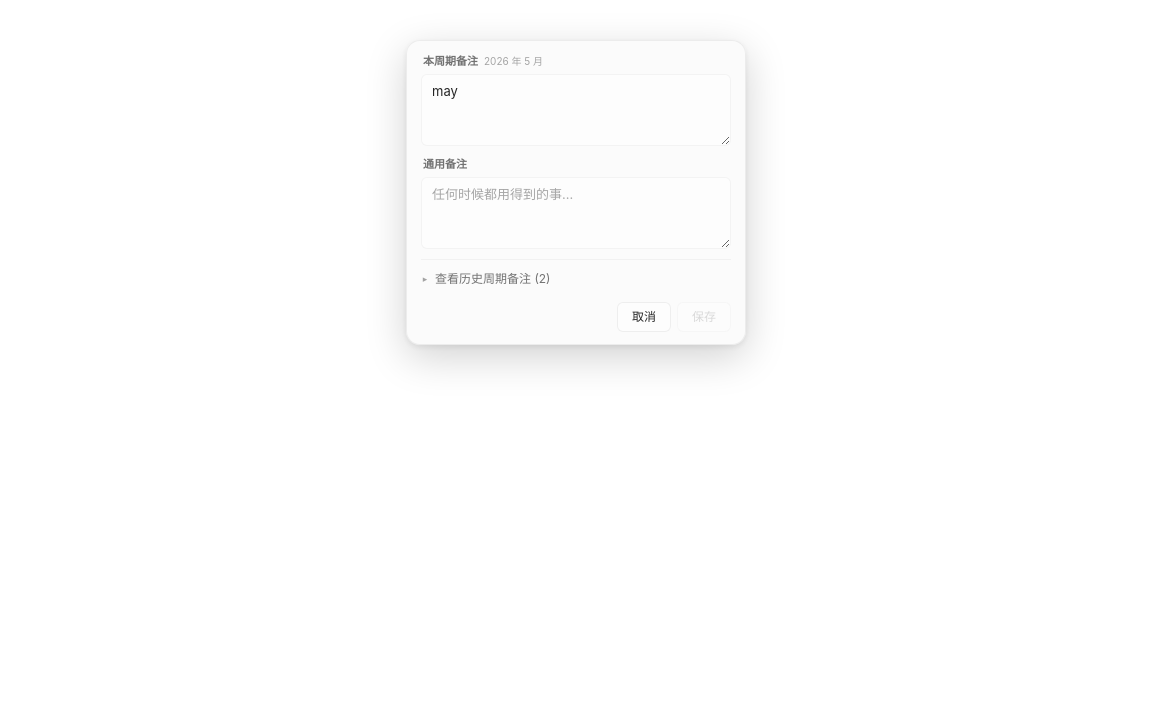
Test case: NoteEditor › renders history list only for non-current cycle keys, newest first
Click the button "▸ 查看历史周期备注 (2)".
click(486, 279)  # box left=421, top=268, right=550, bottom=290
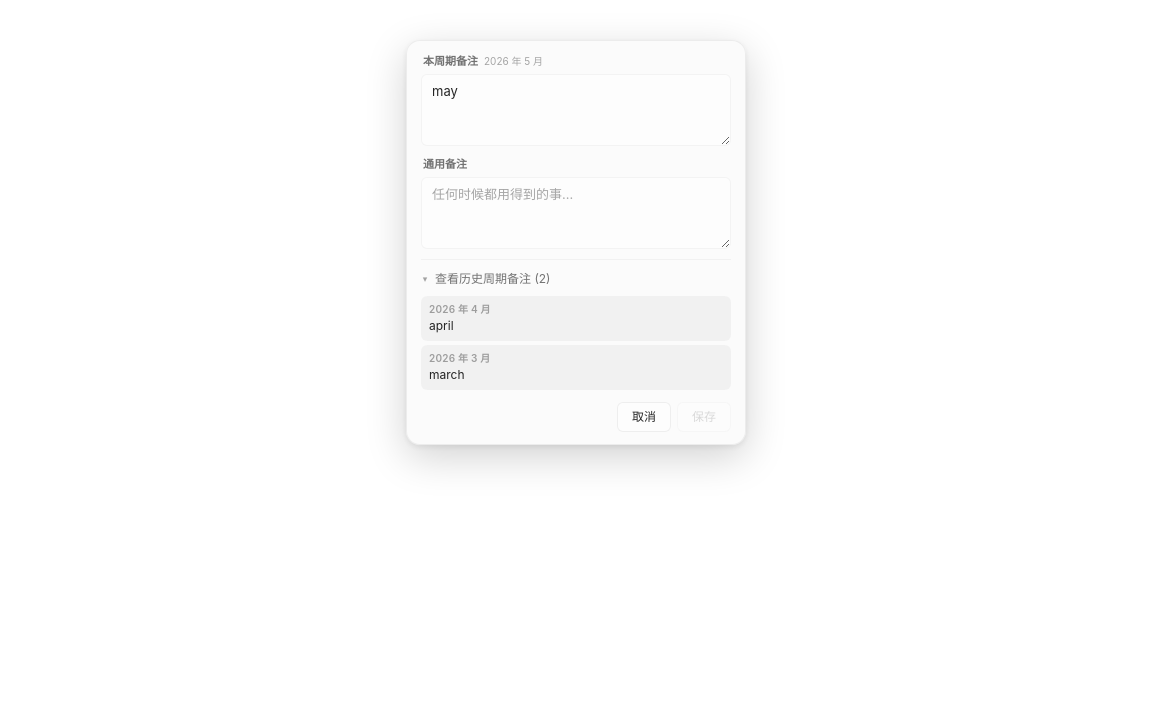
Expected: the number of list items is 2, left=421, top=296, right=731, bottom=341; left=421, top=345, right=731, bottom=390
Expected: the list item "2026 年 4 月 april" is shown, left=421, top=296, right=731, bottom=341
Expected: the list item "2026 年 3 月 march" is shown, left=421, top=345, right=731, bottom=390
